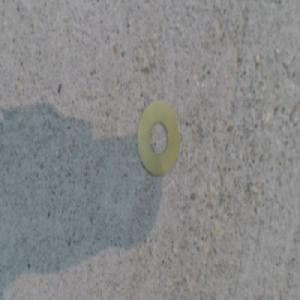Washer: (136, 100, 181, 178)
